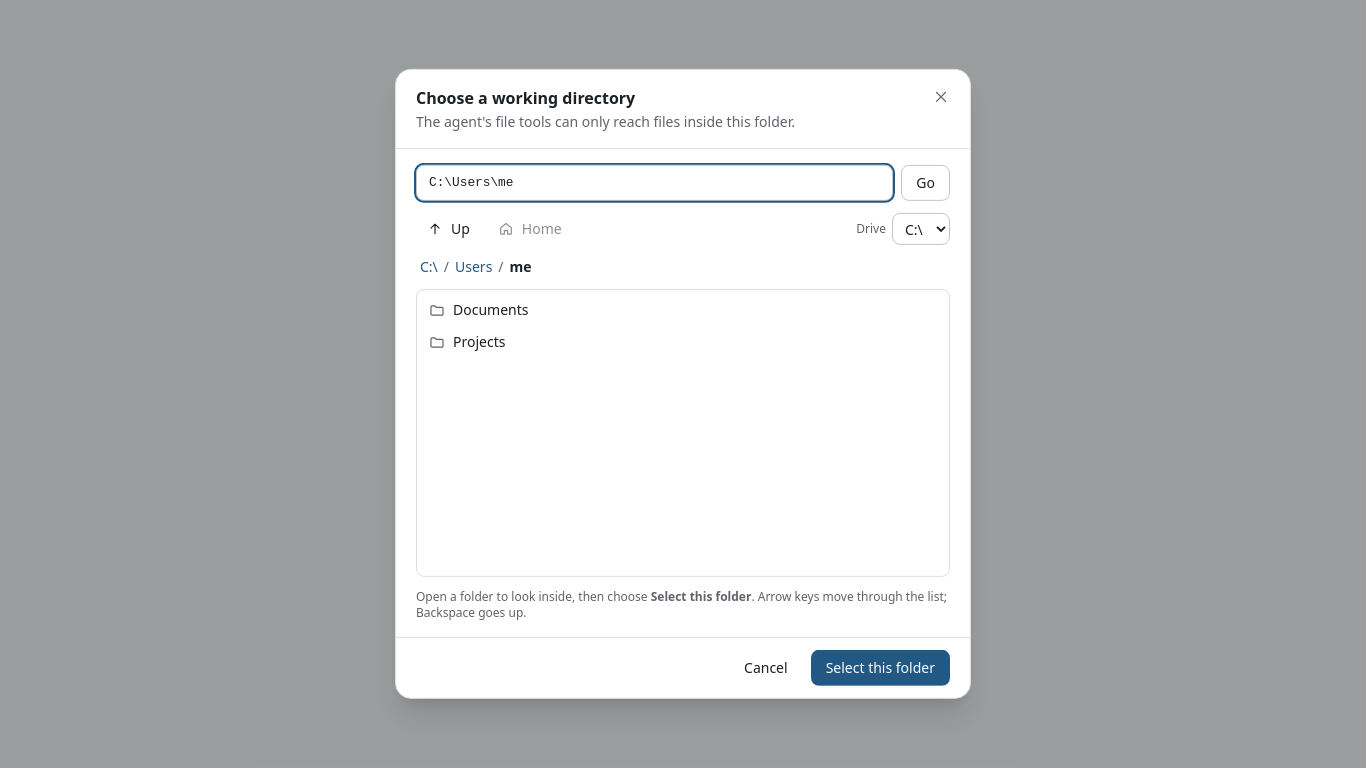
Test: FolderPickerDialog › disables Up at a filesystem root and switches drives
The width and height of the screenshot is (1366, 768).
Expected: the text "me" is shown, [510,257,532,276]
Select "D:\\" in the dropdown labelled "Drive" at (921, 229), box [892,213,950,245]
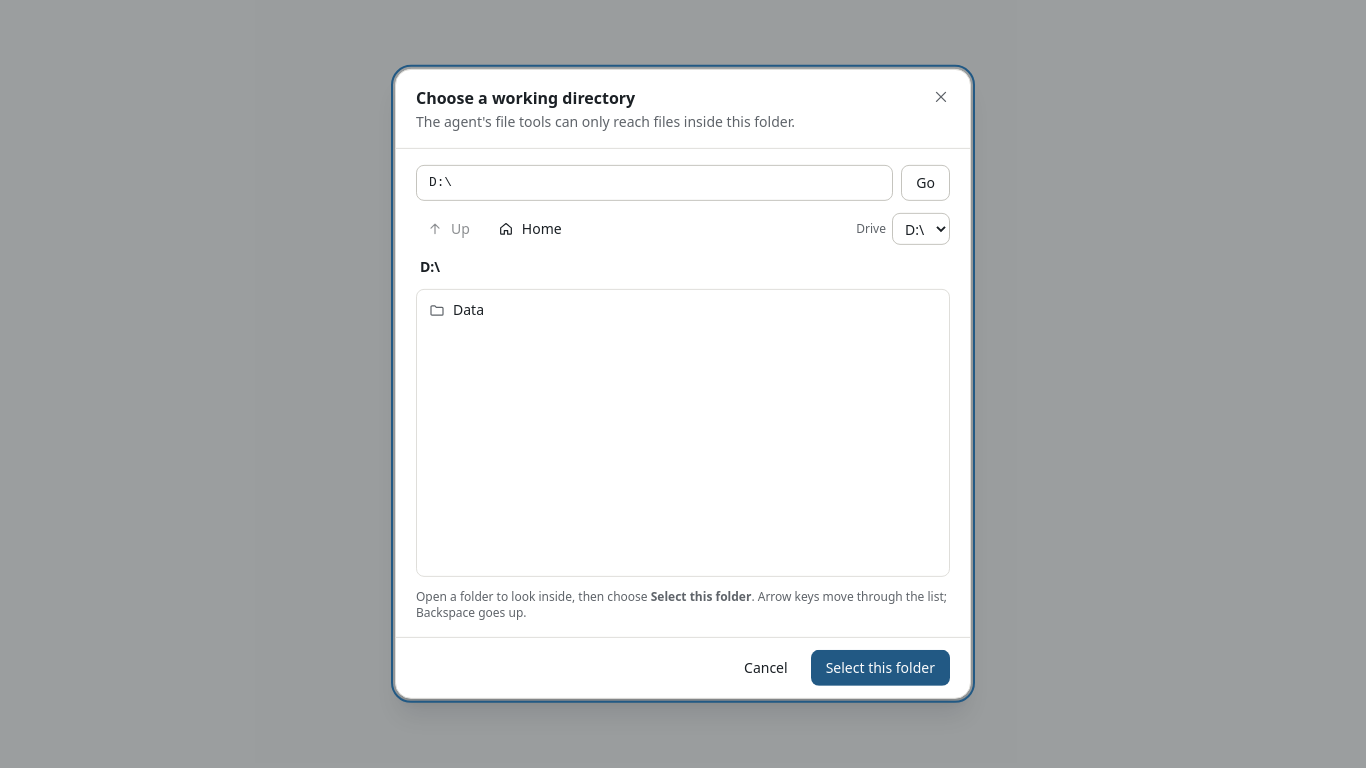
Now the text "D:\\" is shown, box [420,257,440,276]
Now the button named "Up to parent folder" is disabled, box [416,213,481,245]
Now the button "Data" is shown, box [417,294,949,326]
